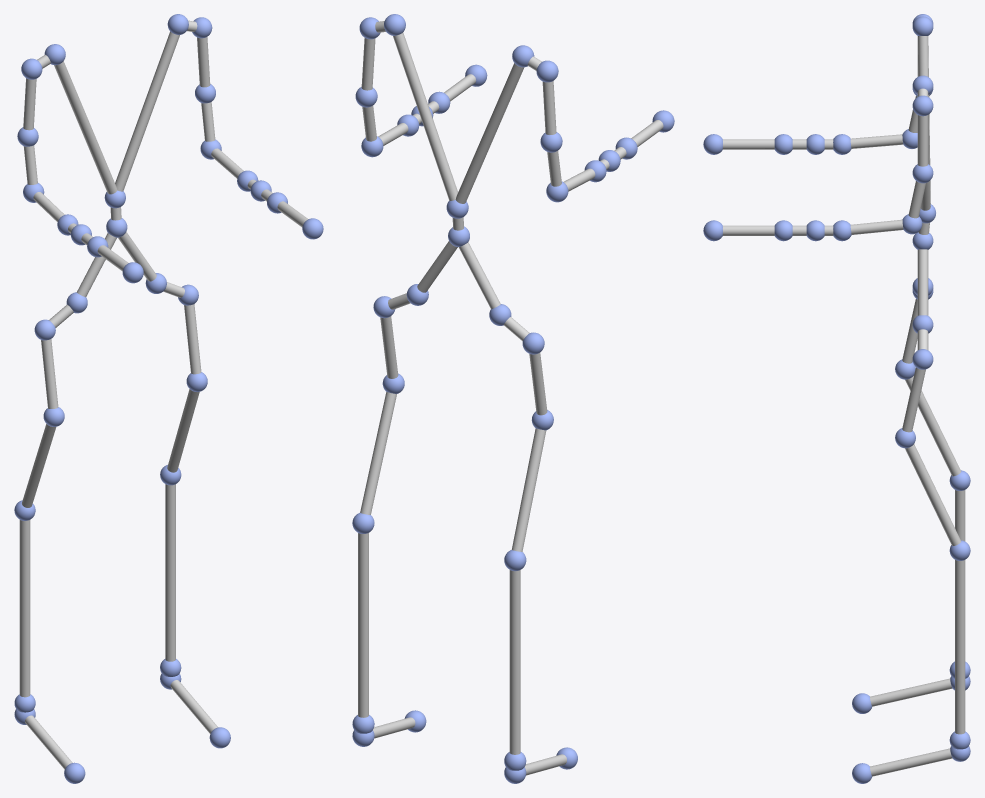
3 views of the same model, side by side, from view 1: azimuth 30°, elevation 25°; view 2: azimuth 150°, elevation 25°; view 3: azimuth 270°, elevation 25° (orthographic). The views are drawn at different scales.
Parts seen in each view (by area): view 1: BoneSegment_14, BoneSegment_13, BoneSegment_11, BoneSegment_12, BoneSegment_9, BoneSegment_10, BoneSegment_6, BoneSegment_7, BoneSegment_22, BoneSegment_21, BoneSegment_1, BoneSegment_20 (+2 smaller); view 2: BoneSegment_14, BoneSegment_11, BoneSegment_13, BoneSegment_12, BoneSegment_10, BoneSegment_9, BoneSegment_1, BoneSegment_7, BoneSegment_6, BoneSegment, BoneSegment_20, BoneSegment_19; view 3: BoneSegment_13, BoneSegment_9, BoneSegment_10, BoneSegment_21, BoneSegment_22, BoneSegment, BoneSegment_6, BoneSegment_19, BoneSegment_26, BoneSegment_25, BoneSegment_31, BoneSegment_32 (+3 smaller).
Part boxes in pixels (x1,y1,x2,y2): BoneSegment_14: (19,520,30,697); BoneSegment_13: (165,484,175,661); BoneSegment_11: (115,31,179,191); BoneSegment_12: (54,61,117,194); BoneSegment_9: (167,389,199,472); BoneSegment_10: (22,424,56,507); BoneSegment_6: (184,304,201,374); BoneSegment_7: (41,339,58,408); BoneSegment_22: (25,715,72,769); BoneSegment_21: (170,680,218,733); BoneSegment_1: (76,233,116,297); BoneSegment_20: (23,78,36,130); BoneSegment_14: (509,570,520,754); BoneSegment_11: (393,32,457,200); BoneSegment_13: (358,533,368,717); BoneSegment_12: (455,63,524,203); BoneSegment_10: (511,428,546,551); BoneSegment_9: (360,392,396,514); BoneSegment_1: (459,242,500,309); BoneSegment_7: (529,352,547,415); BoneSegment_6: (380,316,398,378); BoneSegment: (417,241,457,292); BoneSegment_20: (542,81,556,134); BoneSegment_19: (361,38,375,90); BoneSegment_13: (955,560,965,734); BoneSegment_9: (905,444,961,545); BoneSegment_10: (905,376,961,476); BoneSegment_21: (870,748,952,776); BoneSegment_22: (870,678,952,706); BoneSegment: (917,249,928,315); BoneSegment_6: (902,367,925,432); BoneSegment_19: (917,115,928,166); BoneSegment_26: (850,134,903,148); BoneSegment_25: (850,219,903,234); BoneSegment_31: (722,225,774,235); BoneSegment_32: (722,139,774,149).
Bounding box in the file's own units: 32.27 × 111 × 38.3.
